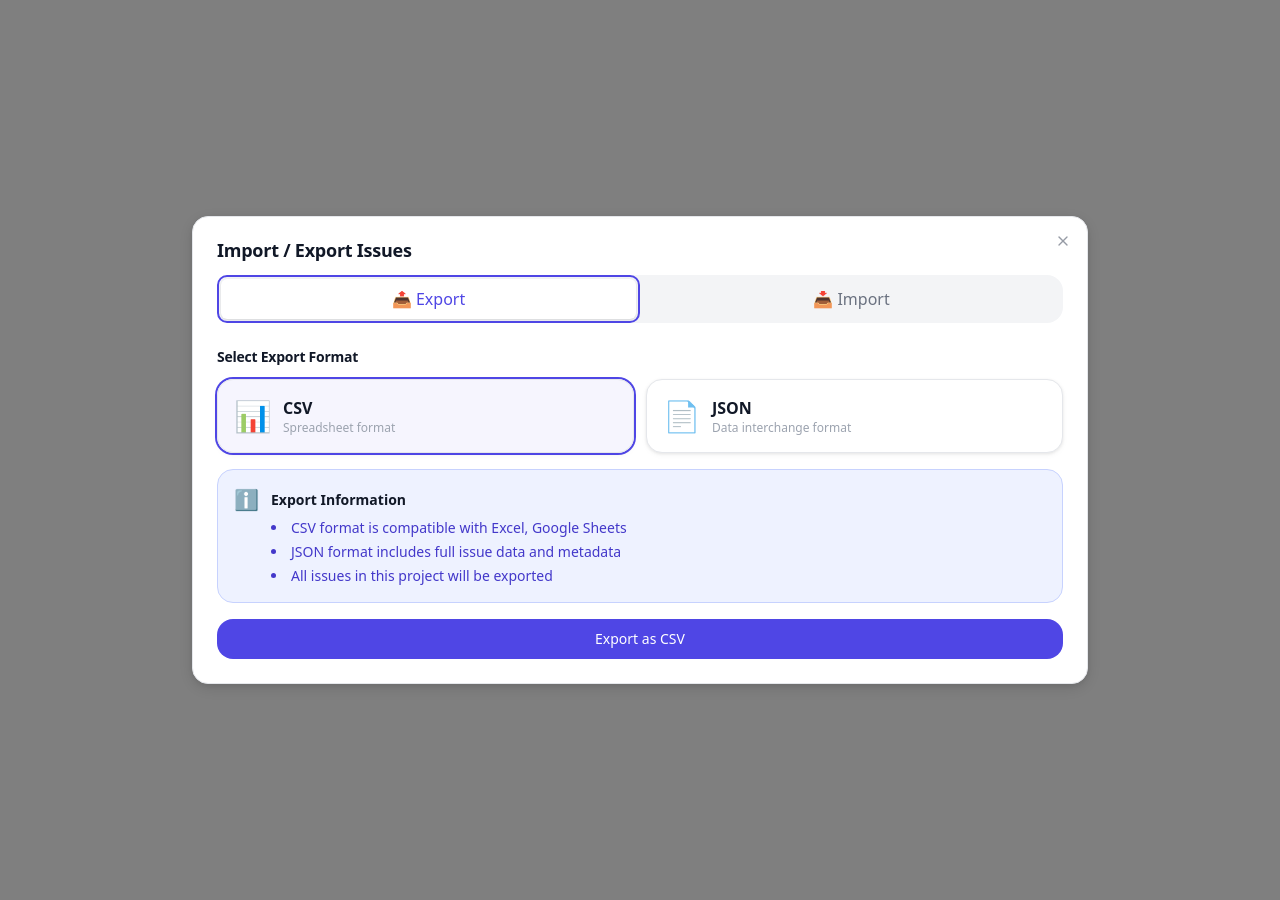
Test case: ImportExportModal - Component Behavior › Mode Switching Logic › should maintain separate format selections for export and import
The image size is (1280, 900).
// Set export to JSON
Click the text "JSON" at {"x": 732, "y": 408}, box [712,397,752,419]
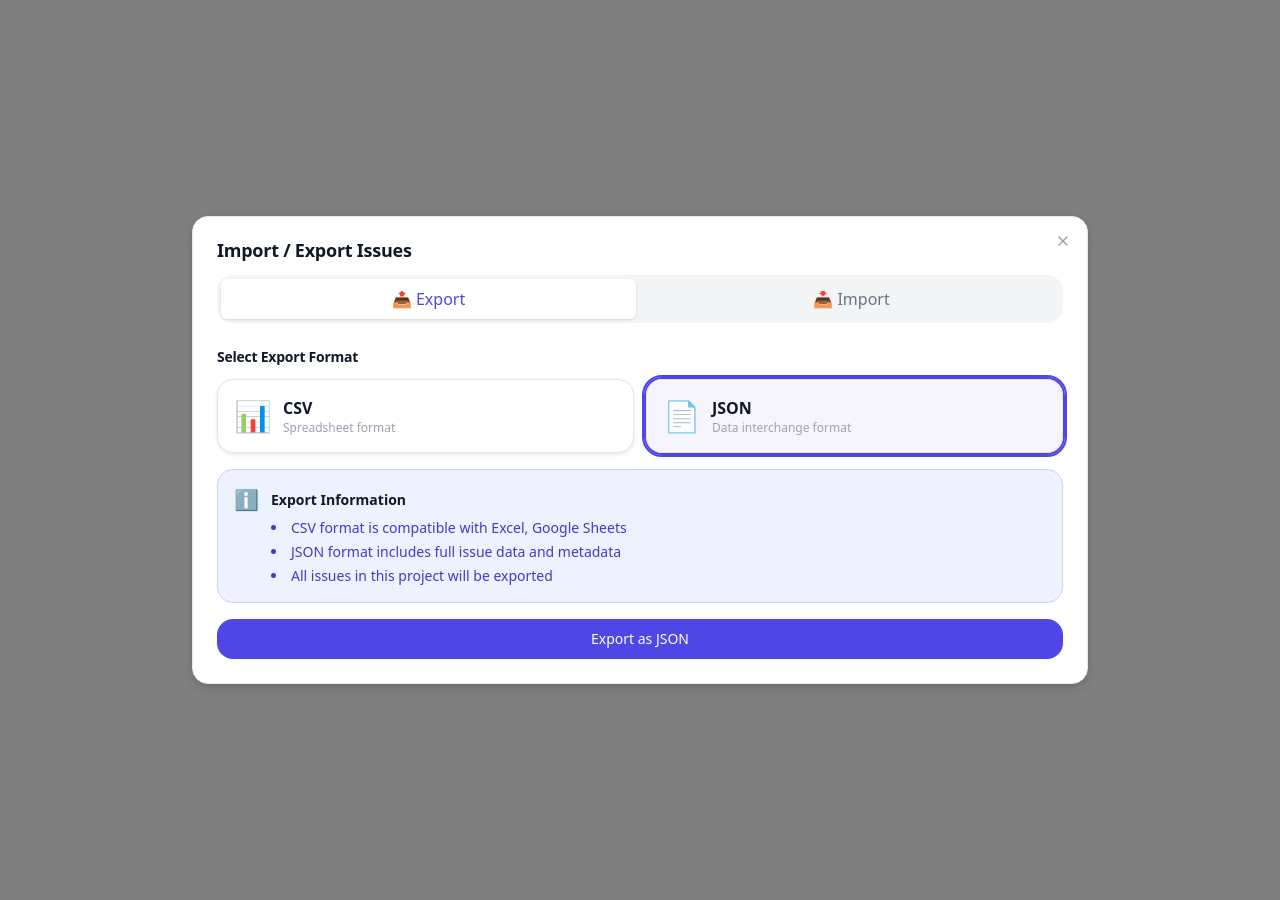
Now the button "Export as JSON" is shown, box [217,619,1063,659]
// Switch to import (should default to CSV)
Click the button "📥 Import" at {"x": 852, "y": 299}, box [644,279,1059,319]
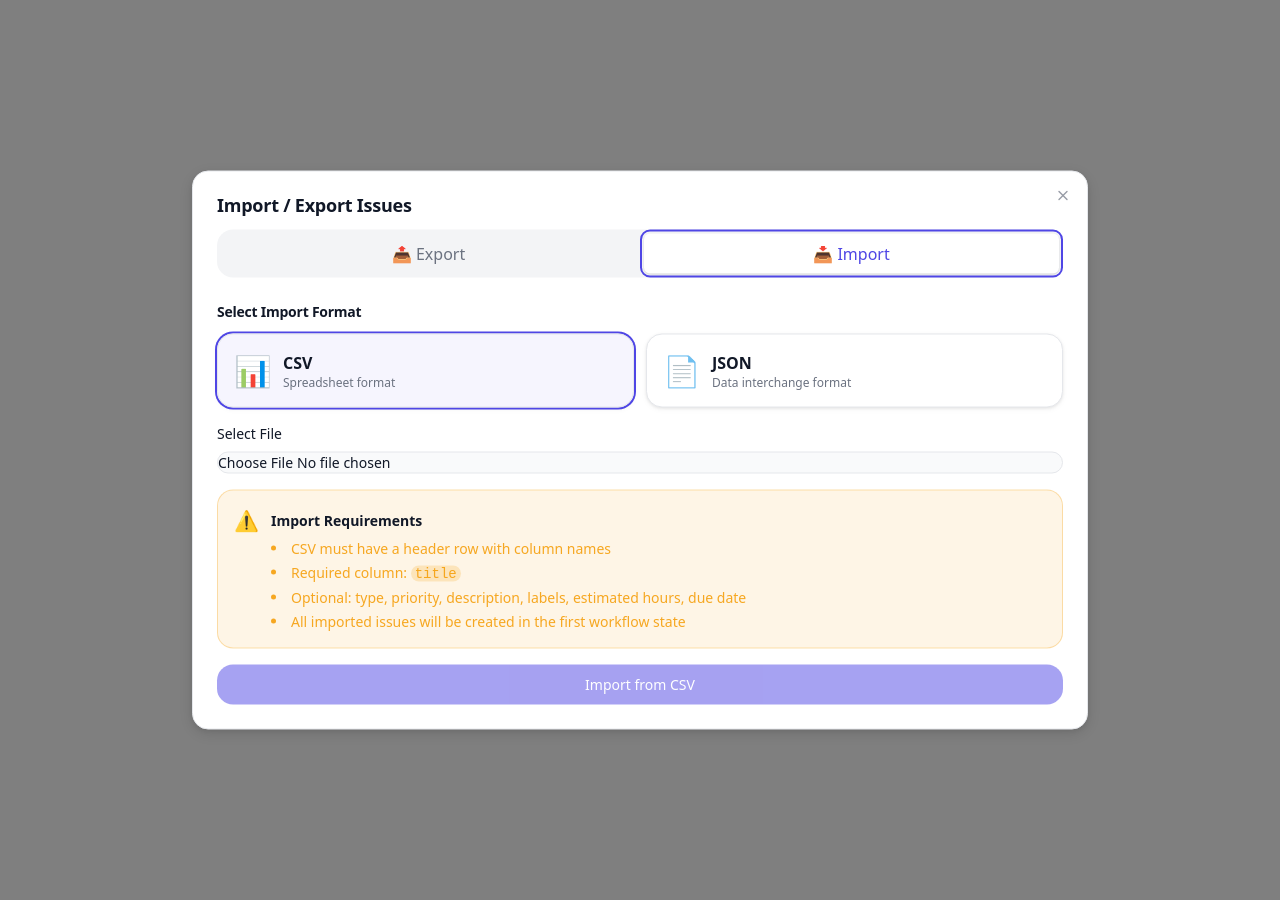
Now the button "Import from CSV" is shown, box [217,664,1063,704]
// Switch back to export (format resets to CSV with refactored component)
Click the button "📤 Export" at {"x": 428, "y": 254}, box [221,234,636,274]
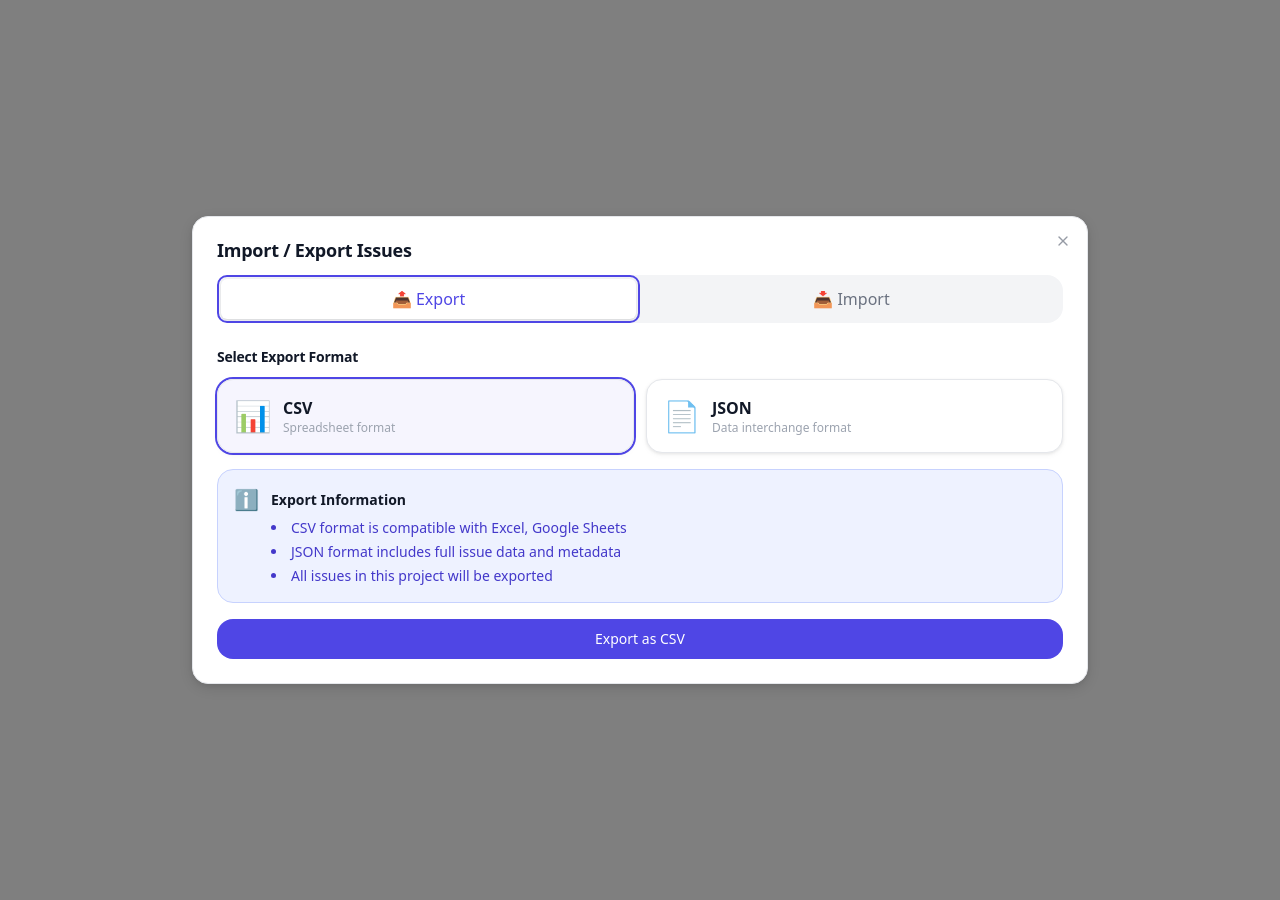
Now the button "Export as CSV" is shown, box [217,619,1063,659]
